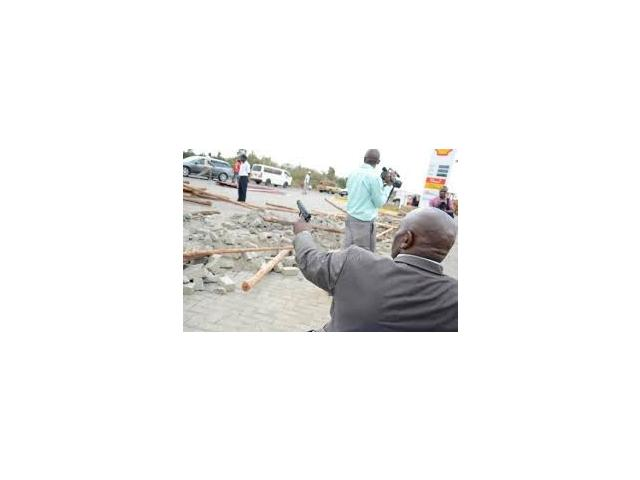pistol: (292, 196, 311, 251)
